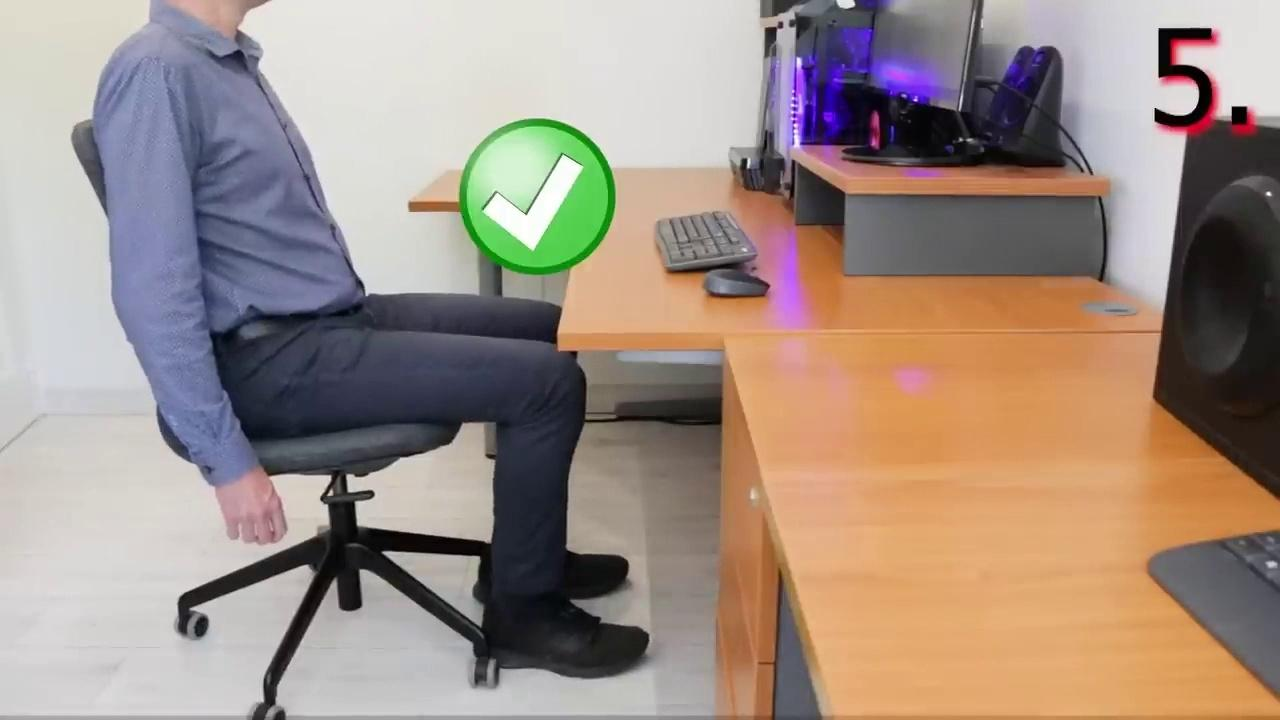GoodPosture: (90, 0, 645, 677)
